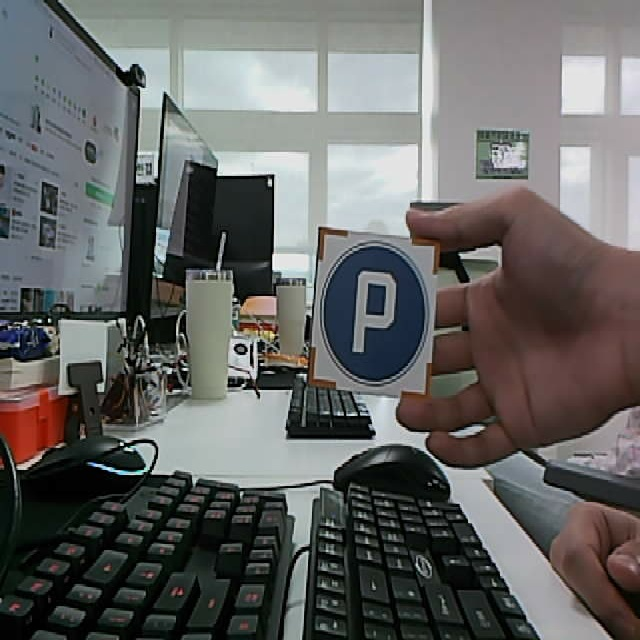parking: (307, 226, 439, 402)
